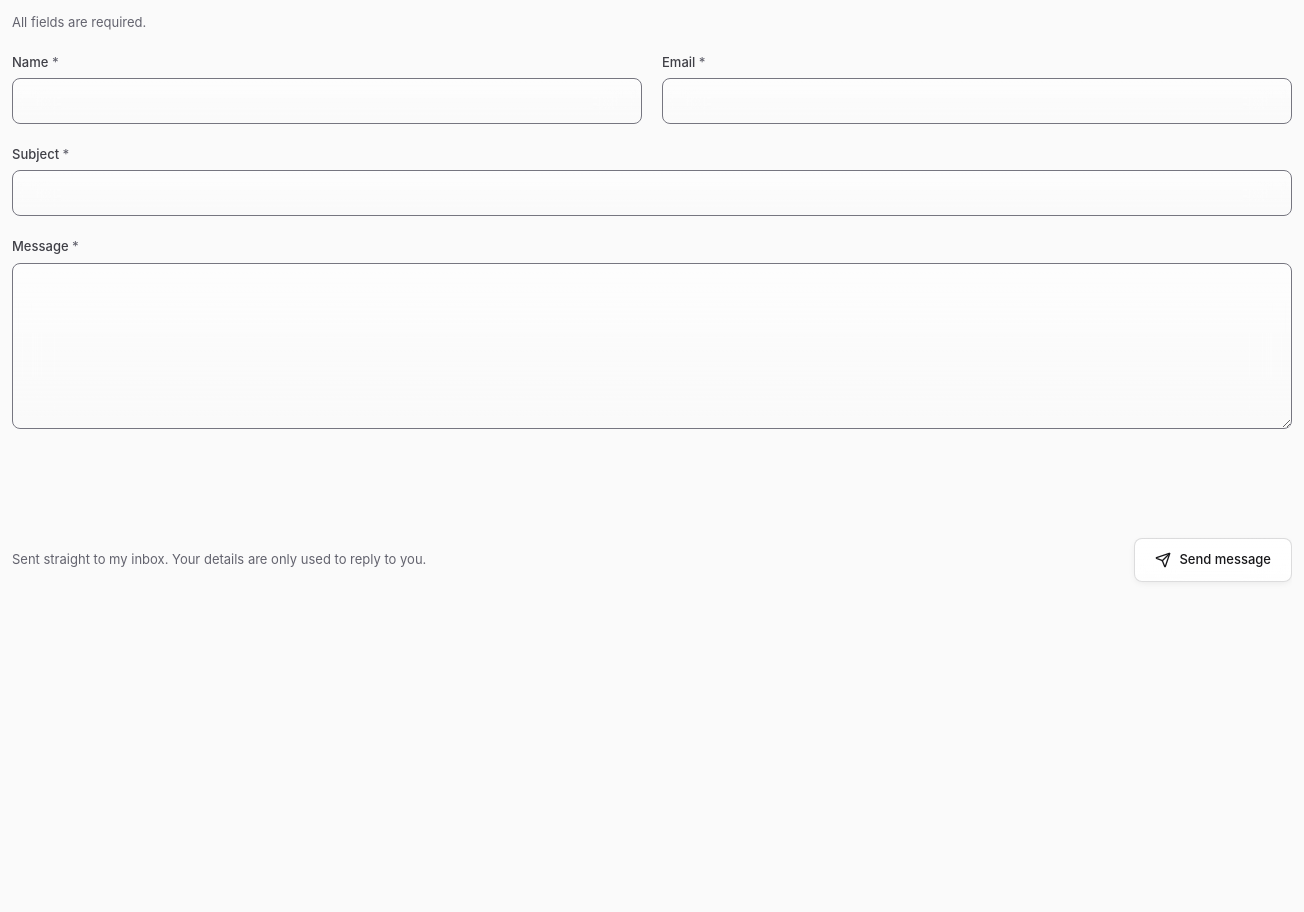
Test: ContactForm with the contact API › requires the Turnstile check, then posts the token to the API
The image size is (1304, 912).
Type "Ada Lovelace" into the field labelled "Name *" at (327, 101), box [12, 78, 642, 124]
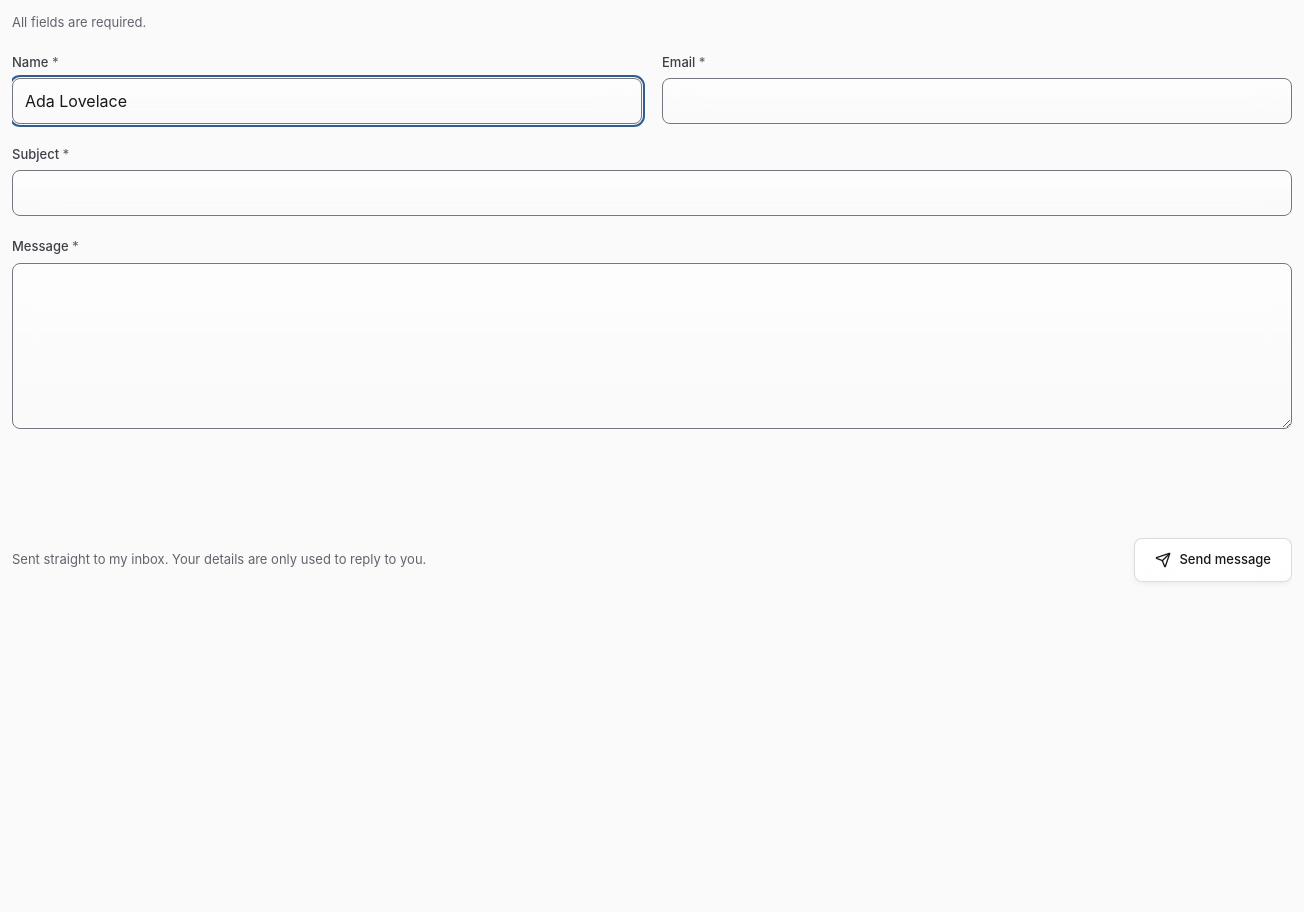
Type "ada@example.com" into the field labelled "Email *" at (977, 101), box [662, 78, 1292, 124]
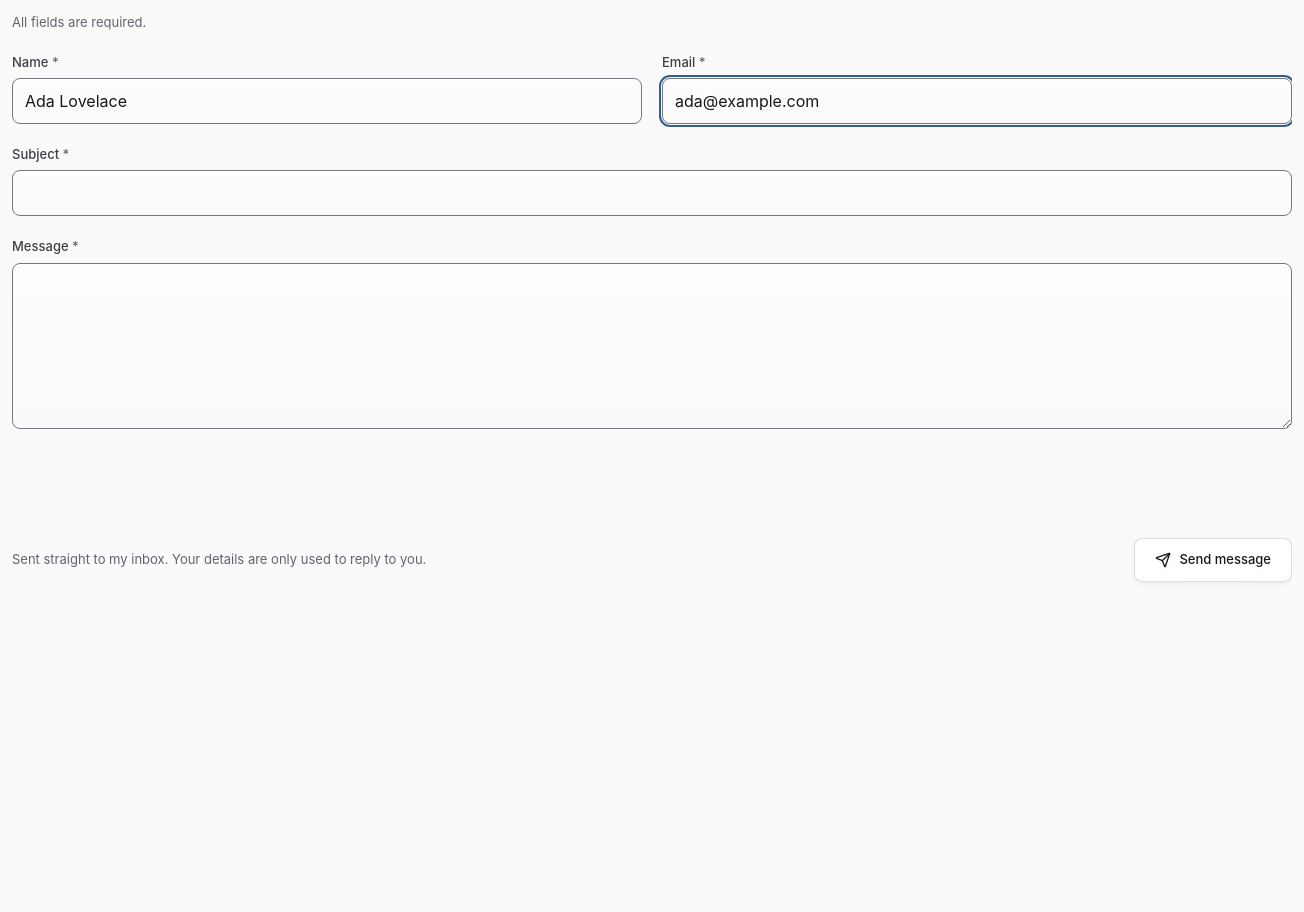
Type "Project" into the field labelled "Subject *" at (652, 193), box [12, 170, 1292, 216]
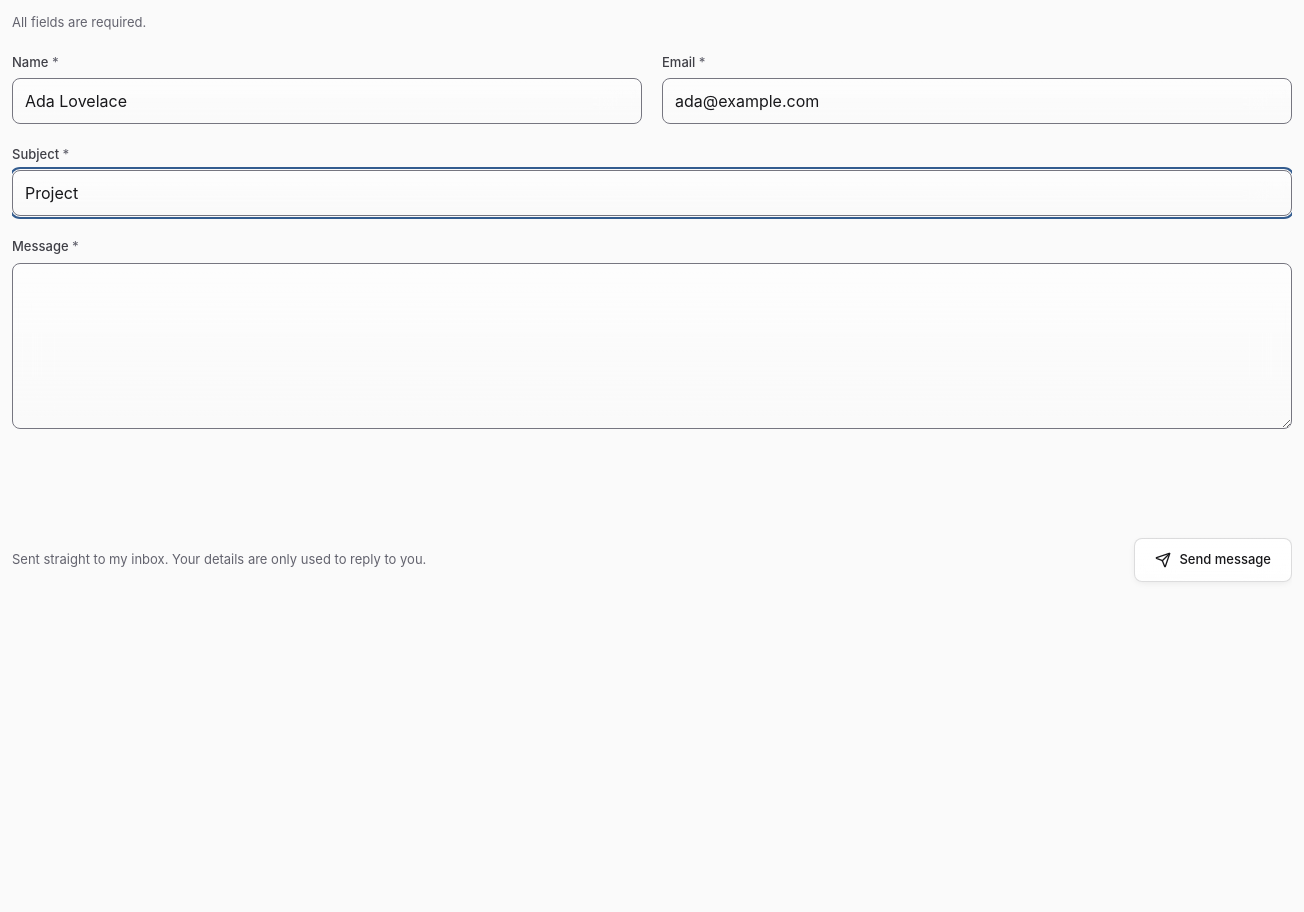
Type "I would like to discuss a project." into the text box labelled "Message *" at (652, 346), box [12, 263, 1292, 429]
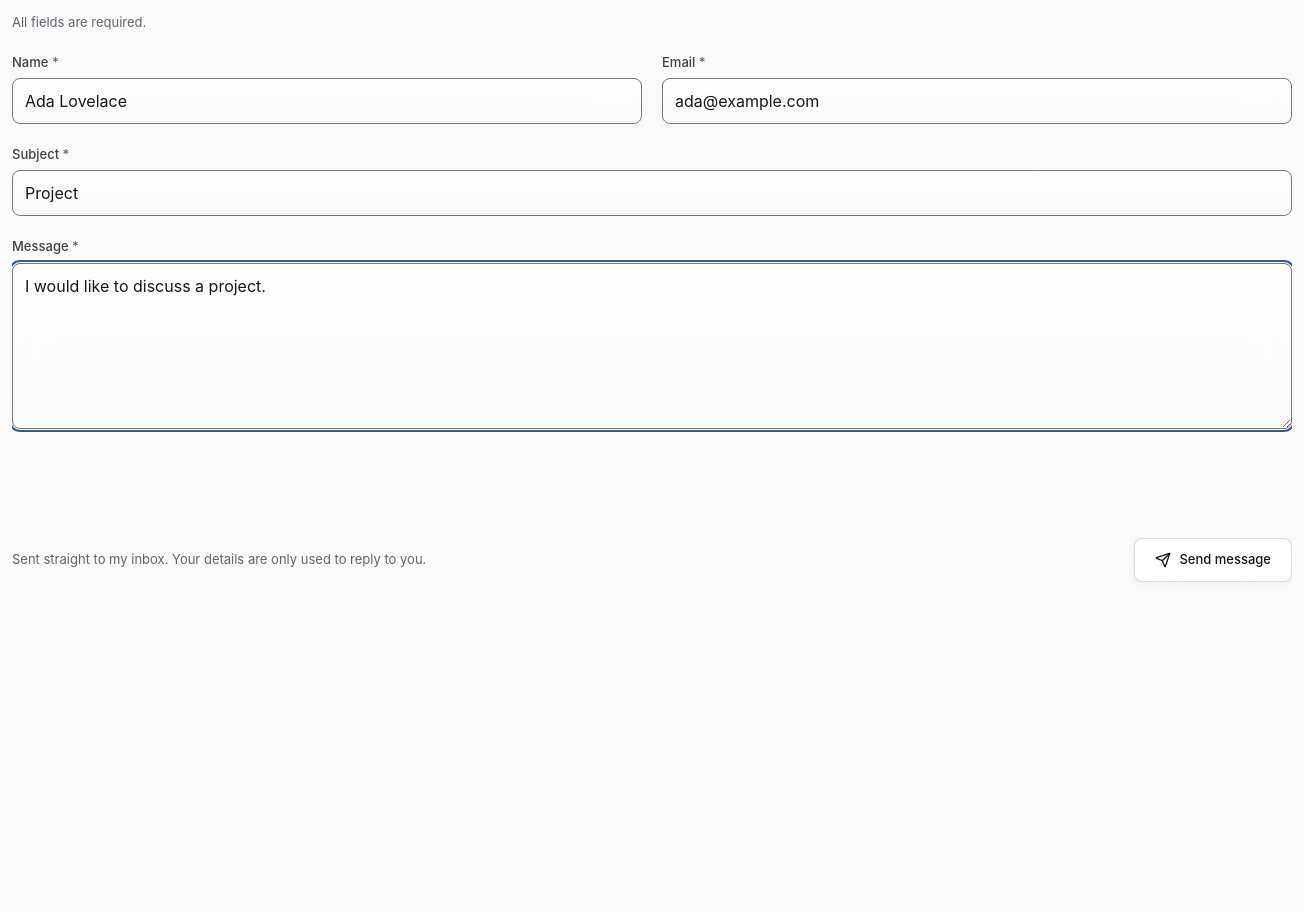
Click the button "Send message" at (1213, 560), box [1134, 538, 1292, 582]
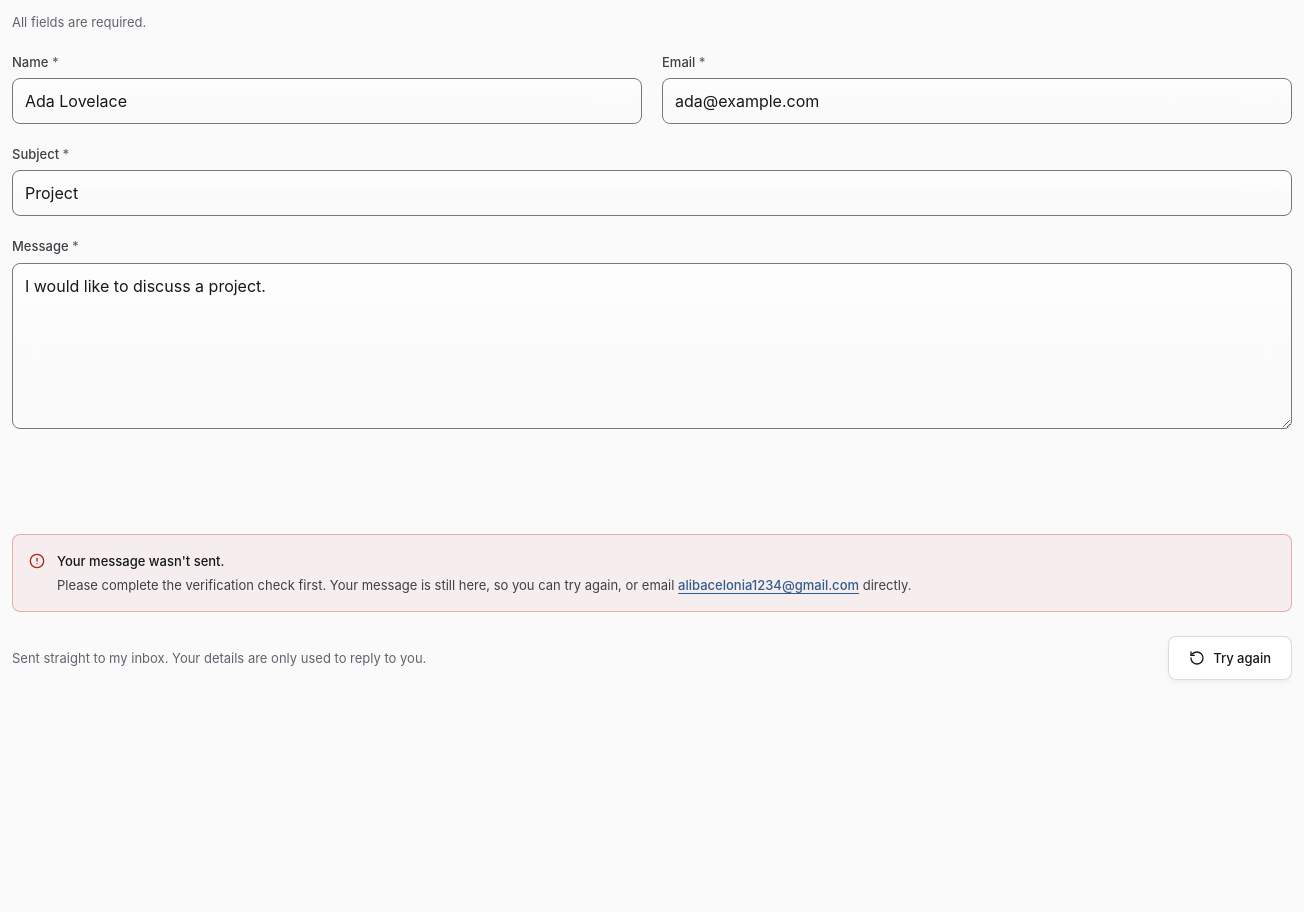
Result: the message shows "verification check" at [57, 577, 326, 593]
Click the button "Try again" at (1230, 658), box [1168, 636, 1292, 680]
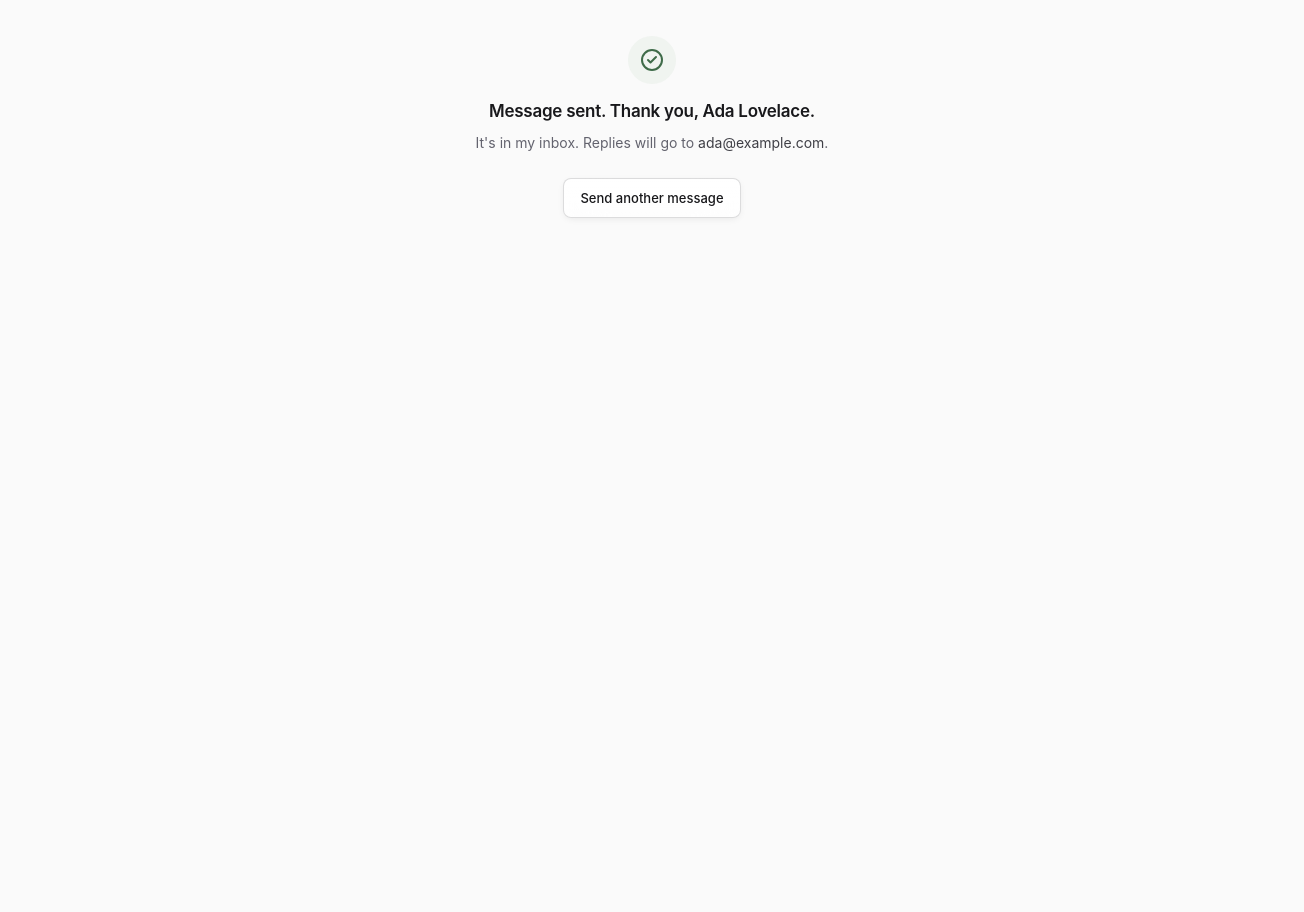
Result: the text "Message sent. Thank you, Ada Lovelace." is shown at [489, 100, 815, 123]
